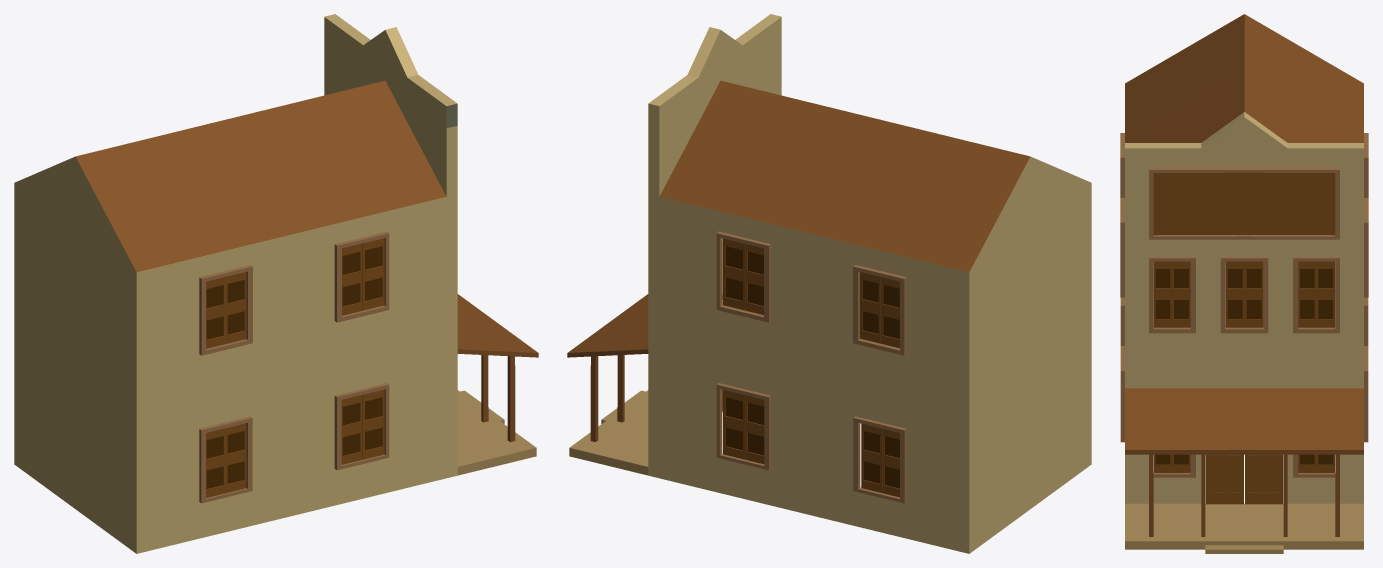
Rendered from House_1.fbx.
The picture shows the model from 3 angles, left to right: view 1: azimuth 30°, elevation 25°; view 2: azimuth 150°, elevation 25°; view 3: azimuth 270°, elevation 25°; orthographic projection. The views are drawn at different scales.
Visible parts, largest first — view 1: House_1; view 2: House_1; view 3: House_1.
Boxes of the visible parts, bbox=[...] form: House_1: bbox=[14, 14, 538, 553]; House_1: bbox=[567, 14, 1091, 553]; House_1: bbox=[1120, 14, 1368, 553].
Size of the model in its own units: 24.26 by 22.89 by 13.06.
